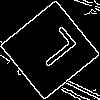L: (25, 25, 79, 76)
